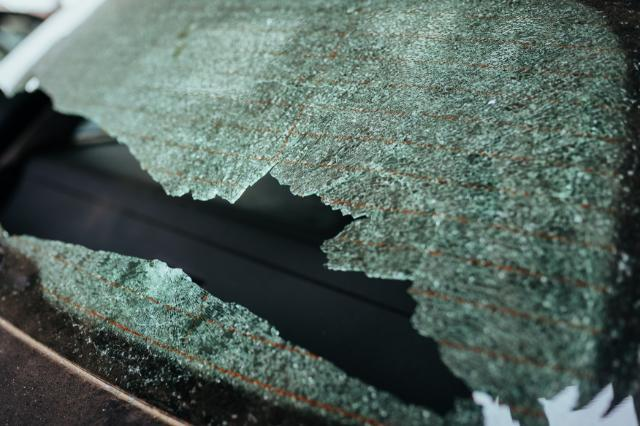Windshield: (6, 3, 640, 426)
